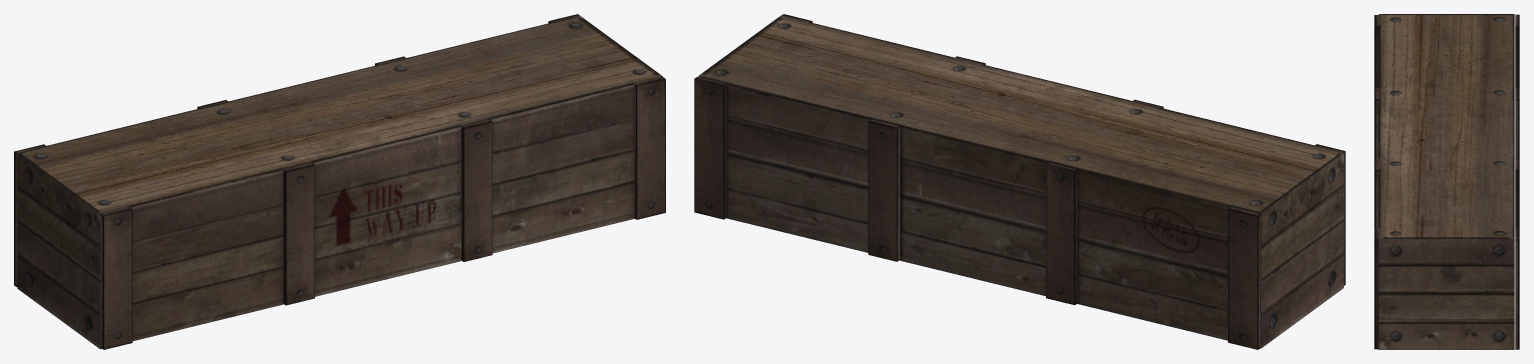
File: Crate.obj
3 views of the same model, side by side, from view 1: azimuth 30°, elevation 25°; view 2: azimuth 150°, elevation 25°; view 3: azimuth 270°, elevation 25° (orthographic). The views are drawn at different scales.
Parts seen in each view (by area): view 1: crate; view 2: crate; view 3: crate.
Part boxes in pixels (x1,y1,x2,y2): crate: [14, 14, 665, 349]; crate: [694, 14, 1345, 349]; crate: [1374, 14, 1519, 349].
Bounding box in the file's own units: 210 × 48.19 × 57.17.
Materials: 1 (1 with a texture image).
